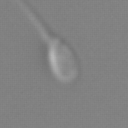normal: (13, 1, 55, 42)
